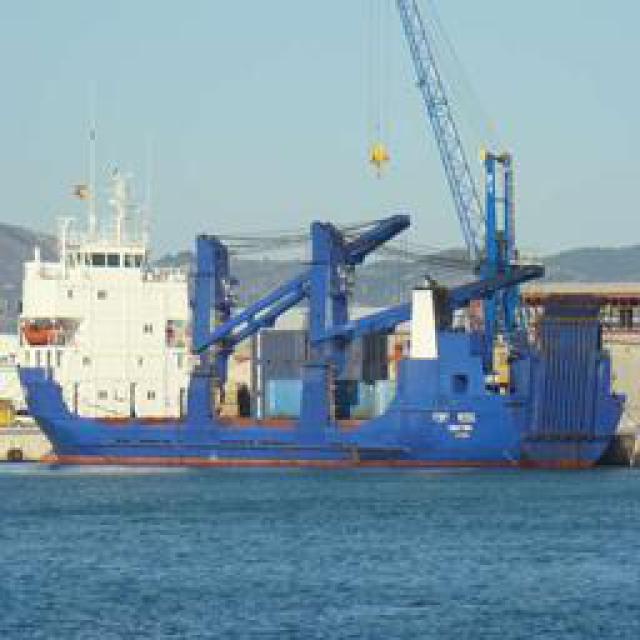Ship: (17, 182, 585, 472)
